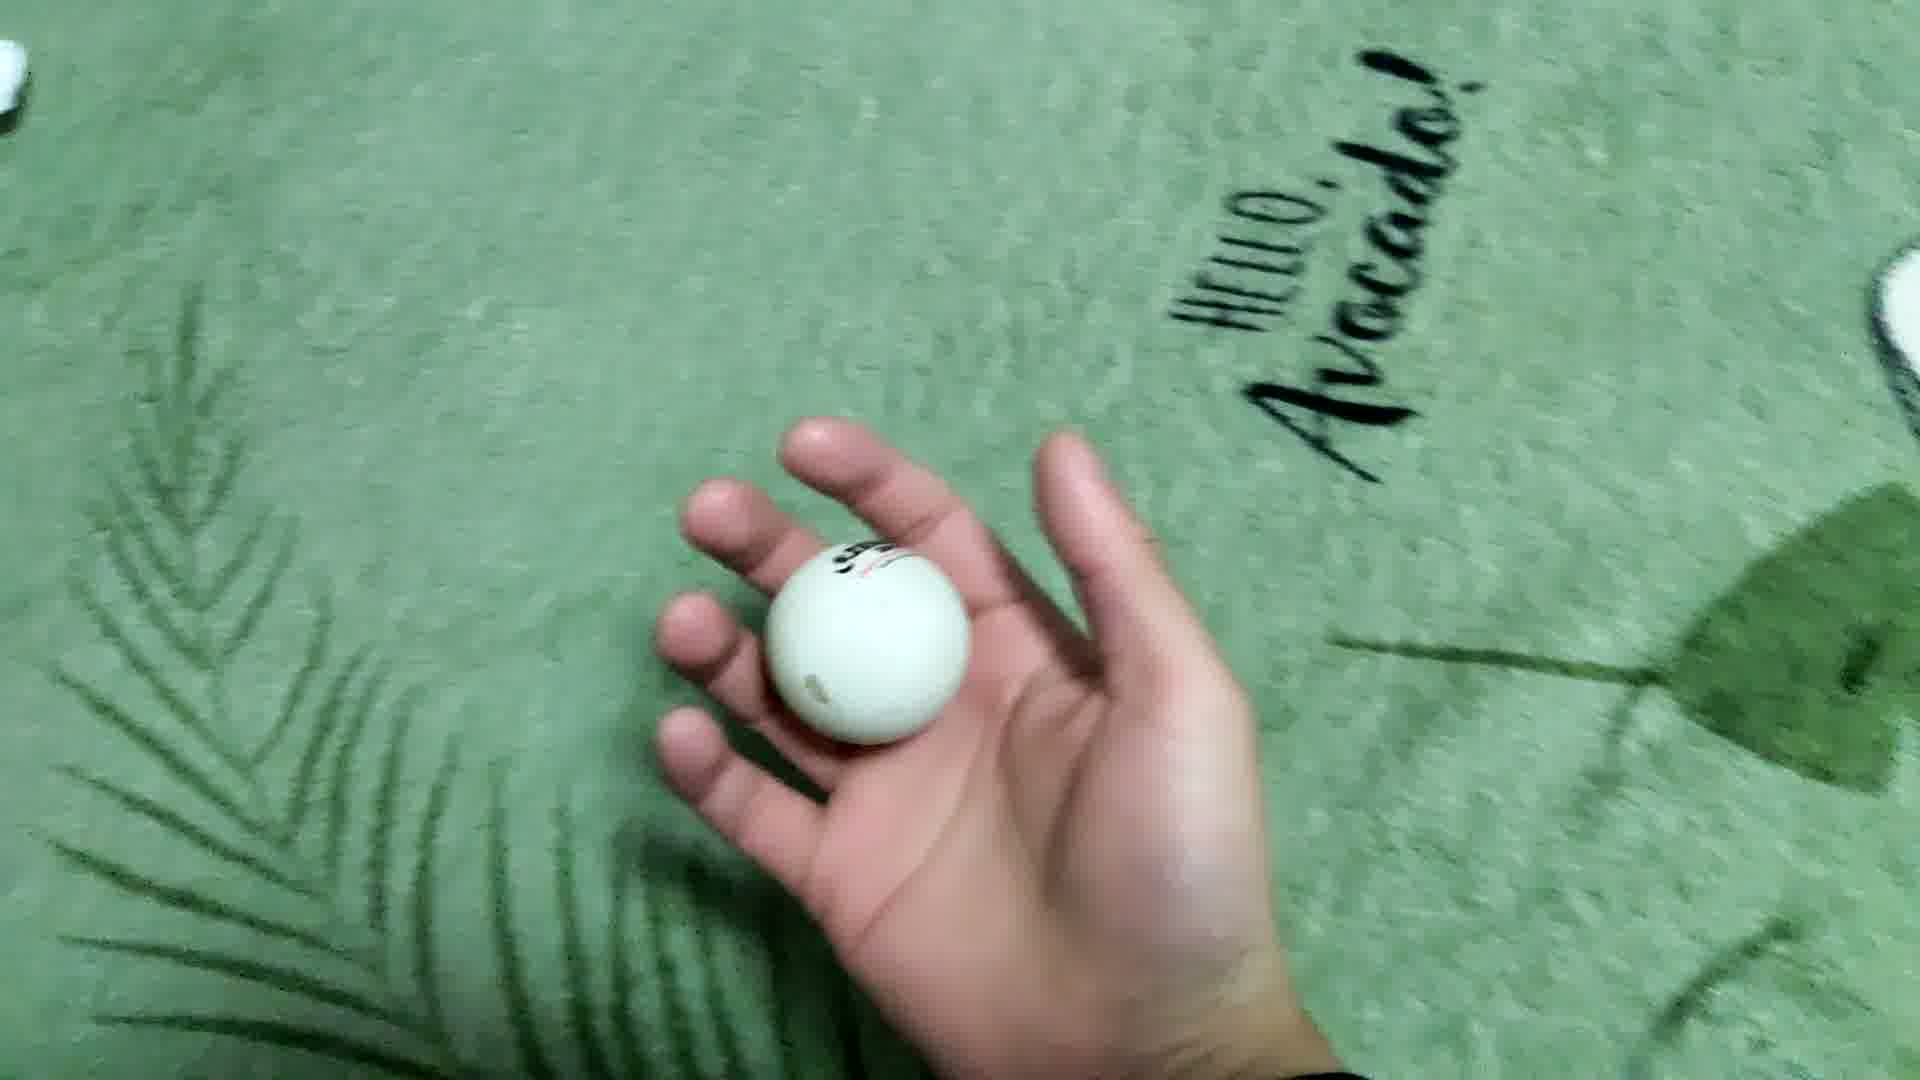Ball: (762, 550, 985, 748)
